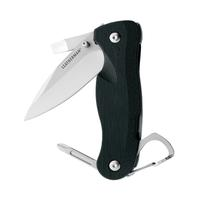knife: (26, 21, 171, 182), (19, 18, 149, 125)
